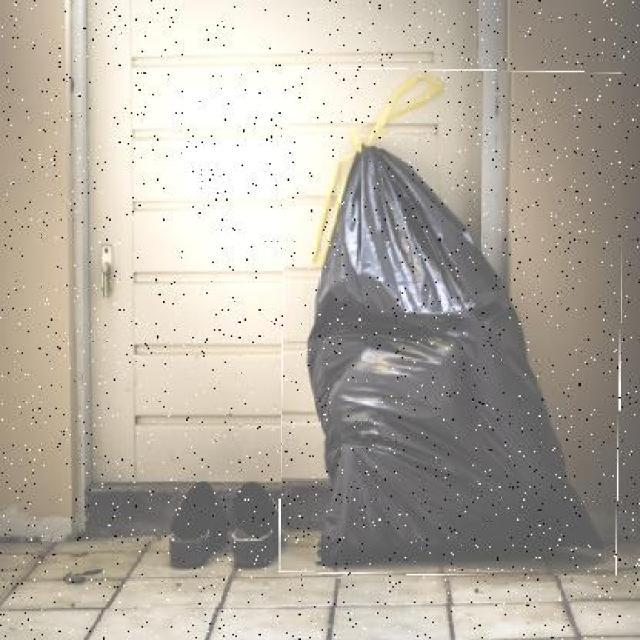waste: (280, 70, 622, 576)
